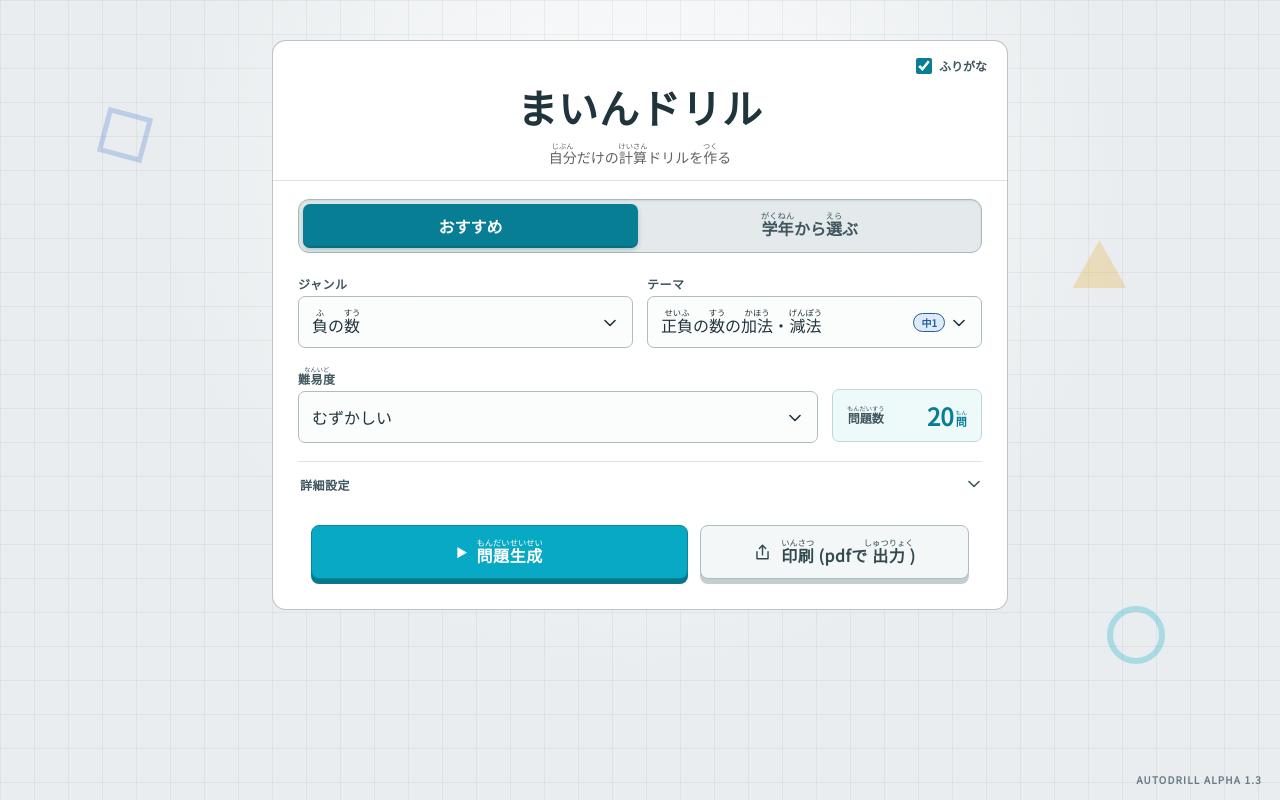
Test: AutoDrillApp › shows furigana on worksheet title and instruction when enabled
This screenshot has width=1280, height=800.
Click the button "▶ 問題生成 もんだいせいせい".
click(499, 552)  # box [311,525,688,579]
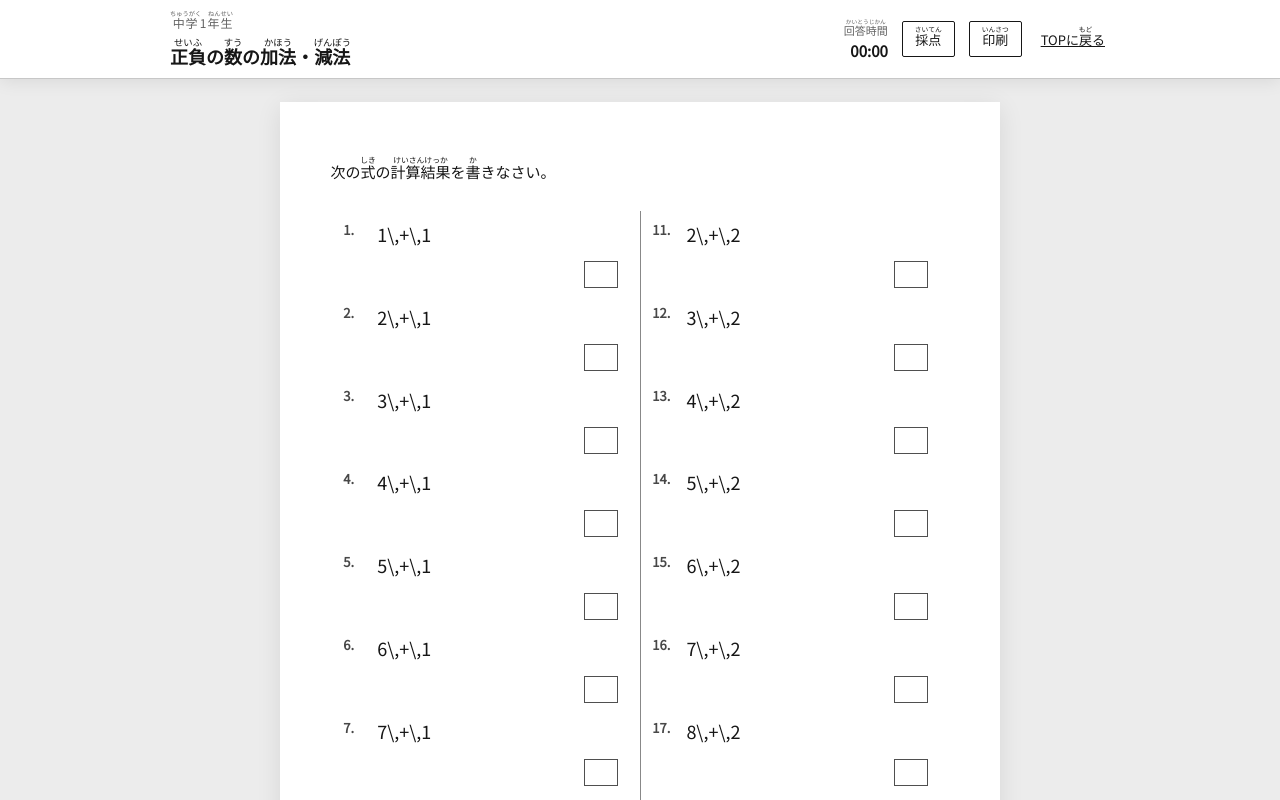
Check: the element showing "正負 せいふ" is shown, box [170,43,206,69]
Check: the element showing "式 しき" is shown, box [360,161,375,182]
